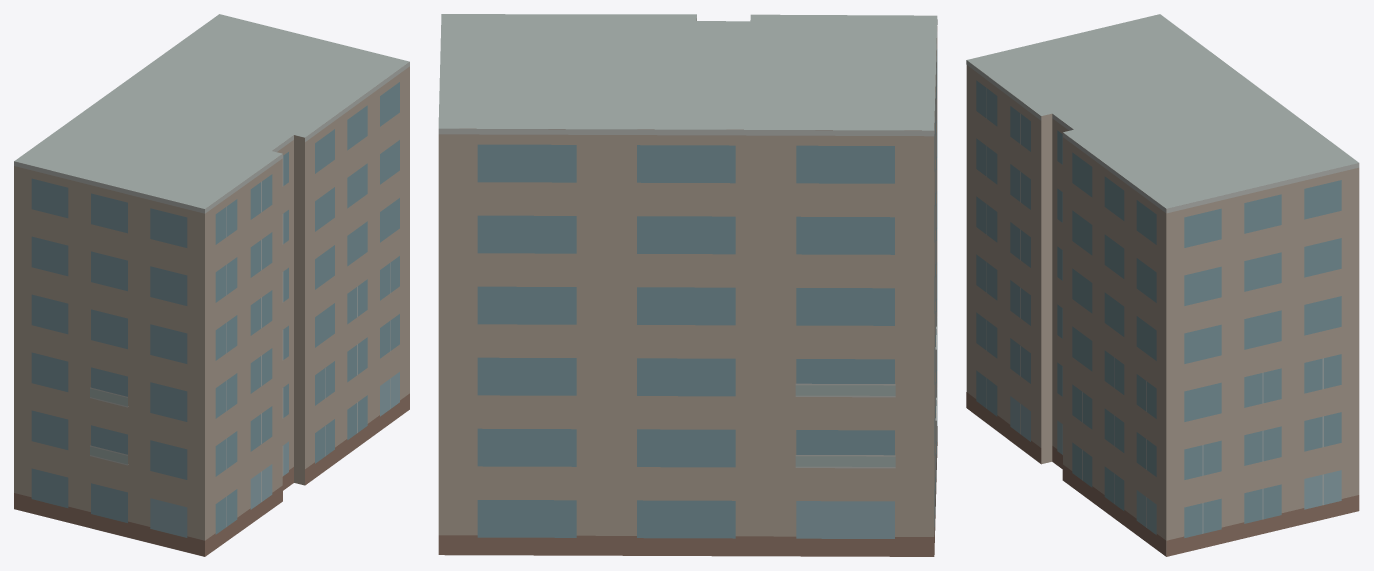
Rendered from survey-upis-32721121.glb.
3 views of the same model, side by side, from view 1: azimuth 30°, elevation 25°; view 2: azimuth 150°, elevation 25°; view 3: azimuth 270°, elevation 25° (orthographic). The views are drawn at different scales.
Visible parts, largest first — view 1: survey-upis-32721121.tmp; view 2: survey-upis-32721121.tmp; view 3: survey-upis-32721121.tmp.
Part boxes in pixels (bbox=[...]): survey-upis-32721121.tmp: bbox=[14, 14, 409, 556]; survey-upis-32721121.tmp: bbox=[438, 14, 937, 556]; survey-upis-32721121.tmp: bbox=[966, 14, 1359, 556].
Bounding box in the file's own units: 21.97 × 18.3 × 18.73.
